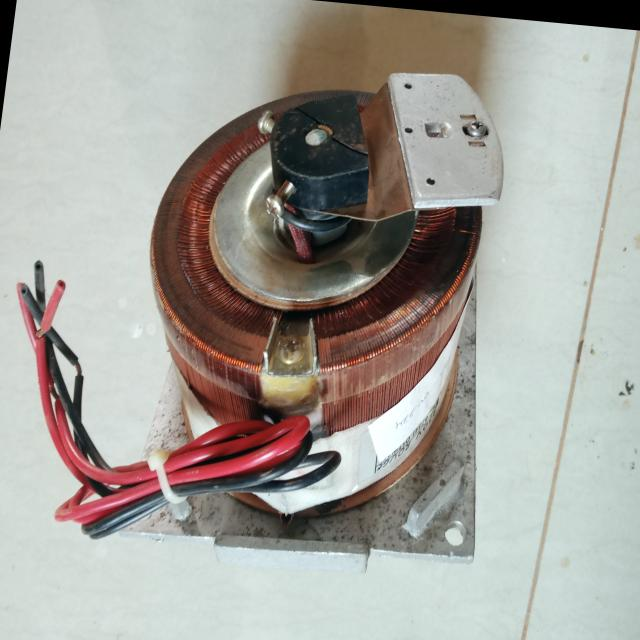AC Transformer: (108, 34, 539, 537)
